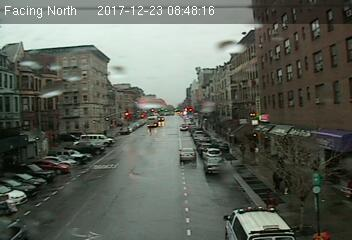car: (203, 157, 226, 176), (178, 146, 197, 163)
police: (225, 205, 299, 240)
